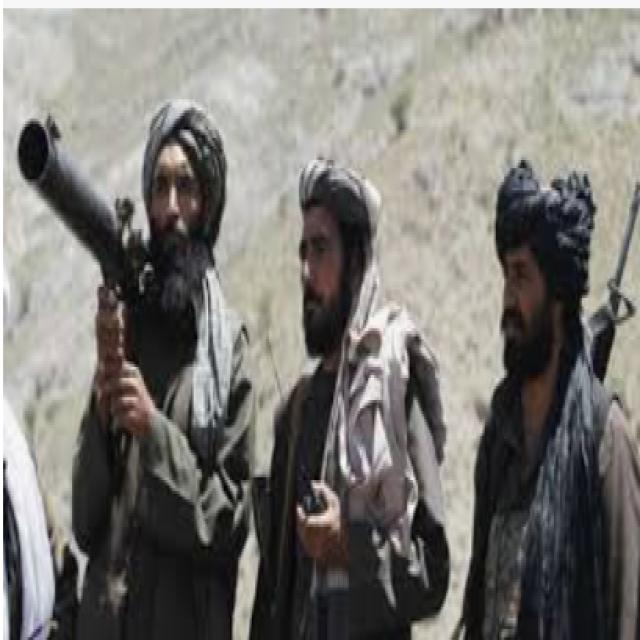civilian: (250, 157, 451, 637)
terrorist: (17, 99, 258, 637), (456, 160, 638, 637)
